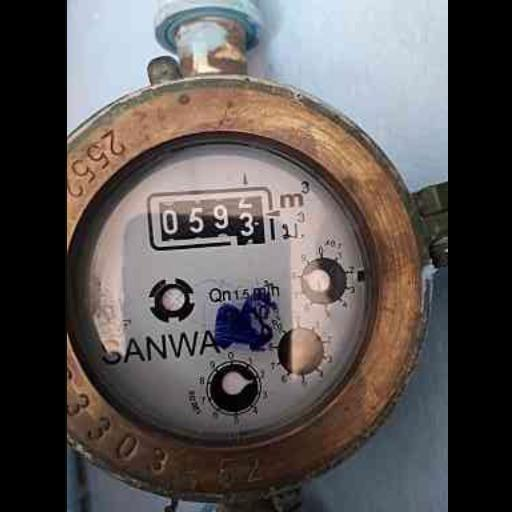0: (158, 201, 183, 242)
3: (234, 196, 265, 247)
5: (180, 199, 210, 240)
9: (207, 198, 236, 239)
border_water_meter_number: (146, 185, 275, 252)
